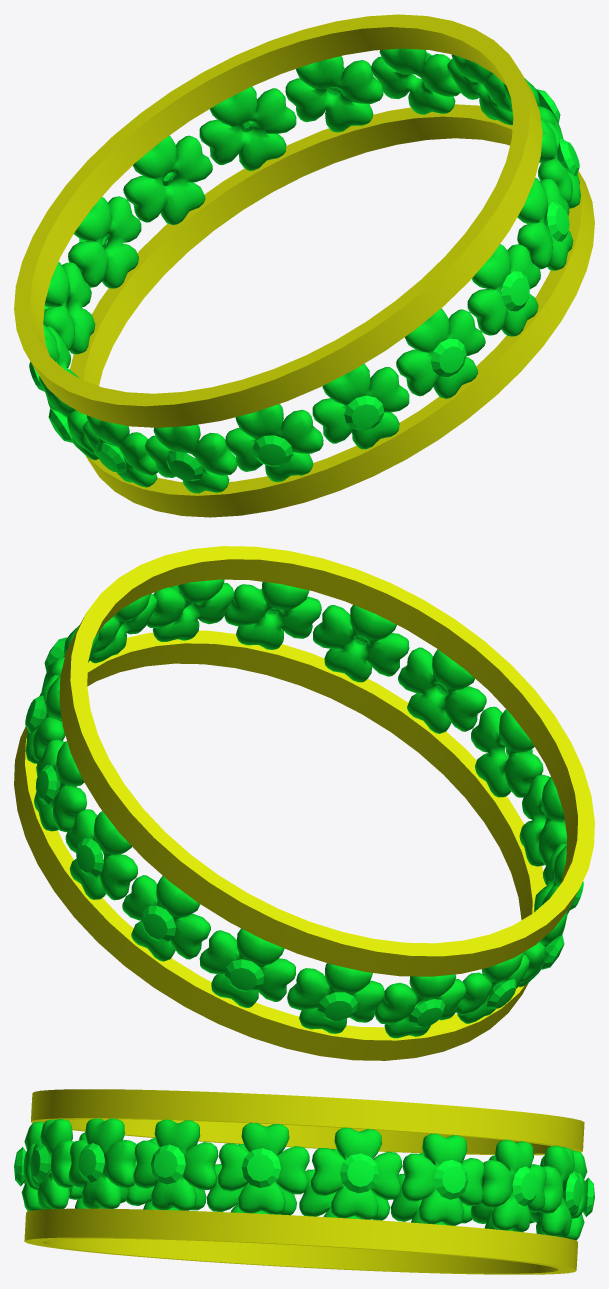
File: クローバー.fbx
The picture shows the model from 3 angles, top to bottom: view 1: azimuth 30°, elevation 25°; view 2: azimuth 150°, elevation 25°; view 3: azimuth 270°, elevation 25°; orthographic projection. The views are drawn at different scales.
Parts seen in each view (by area): view 1: clowers_low.001; view 2: clowers_low.001; view 3: clowers_low.001.
Part boxes in pixels (x1,y1,x2,y2): clowers_low.001: (14,14,594,517); clowers_low.001: (14,546,594,1060); clowers_low.001: (14,1089,594,1274).
Bounding box in the file's own units: 28.63 × 19.83 × 29.75.
